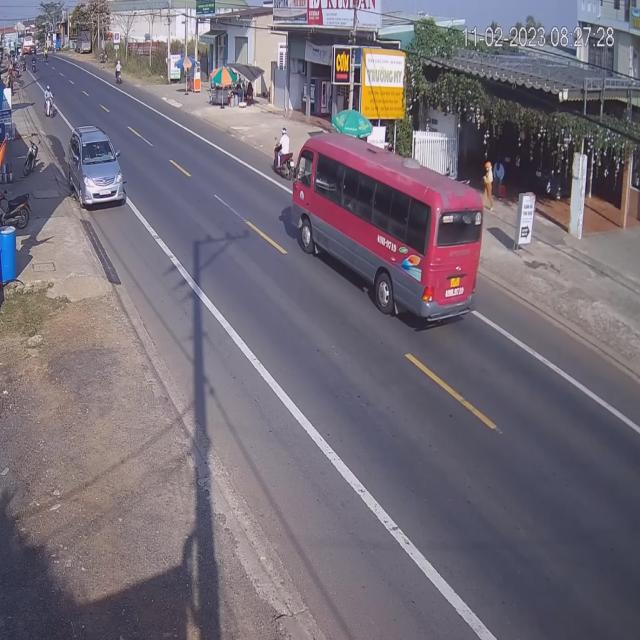bus: (300, 130, 493, 325)
car: (68, 126, 126, 210)
motorbike: (274, 128, 294, 182), (43, 86, 54, 120)
